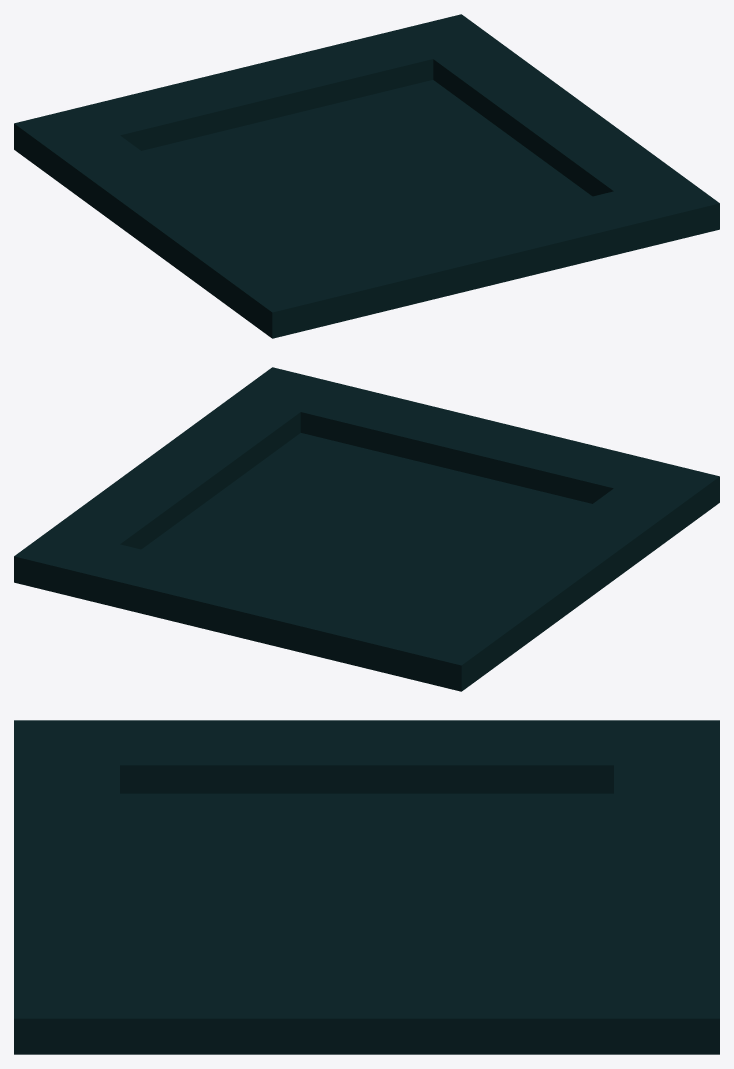
File: Plate.glb
The picture shows the model from 3 angles, top to bottom: view 1: azimuth 30°, elevation 25°; view 2: azimuth 150°, elevation 25°; view 3: azimuth 270°, elevation 25°; orthographic projection. The views are drawn at different scales.
Visible parts, largest first — view 1: Plate; view 2: Plate; view 3: Plate.
Part boxes in pixels (left/top/right/bottom): Plate: left=14, top=14, right=719, bottom=338; Plate: left=14, top=367, right=719, bottom=691; Plate: left=14, top=720, right=719, bottom=1054.
Bounding box in the file's own units: 8 × 0.4481 × 8.
